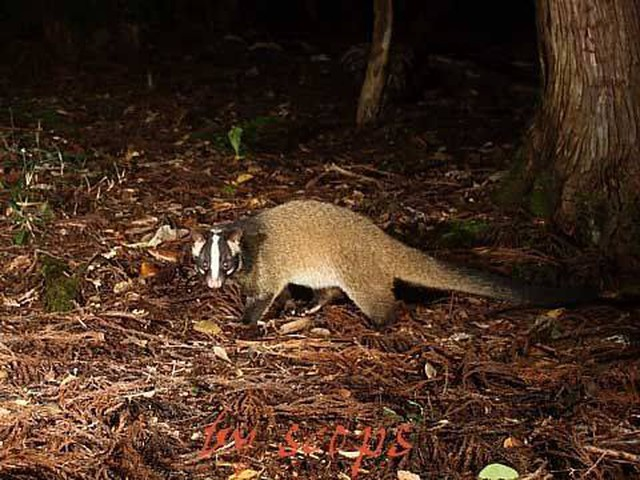civet: (189, 198, 514, 324)
